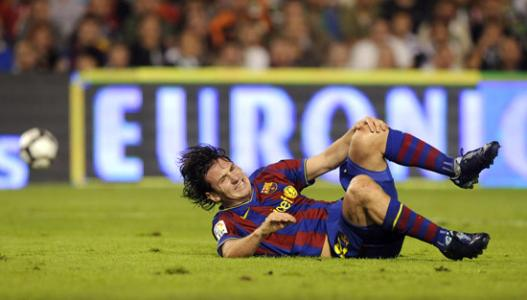10+: (1, 1, 522, 269)
down: (173, 103, 504, 266)
